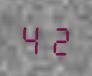four: (19, 19, 44, 55)
two: (45, 19, 70, 56)
